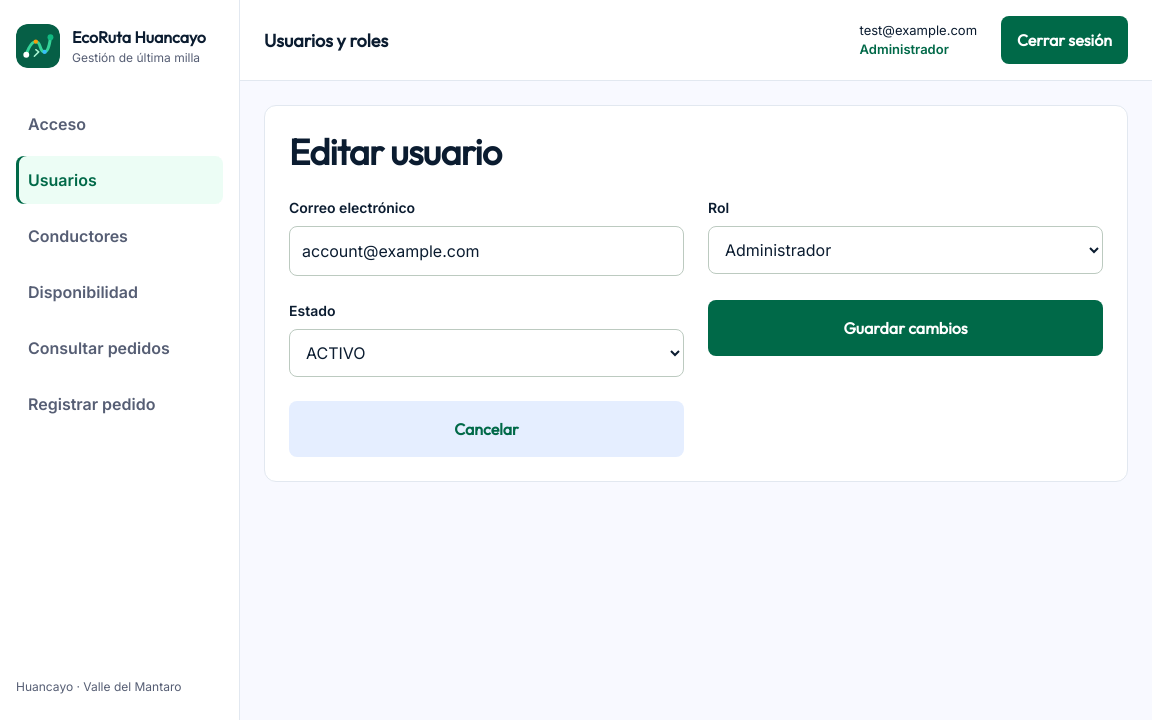
Test: US-003 interfaz › muestra fallo al guardar sin perder datos: unexpected
This screenshot has width=1152, height=720.
Expected: the field labelled "Correo electrónico" is shown, [289,226,684,276]
Click the button "Guardar cambios" at (906,328), box [708,300,1103,356]
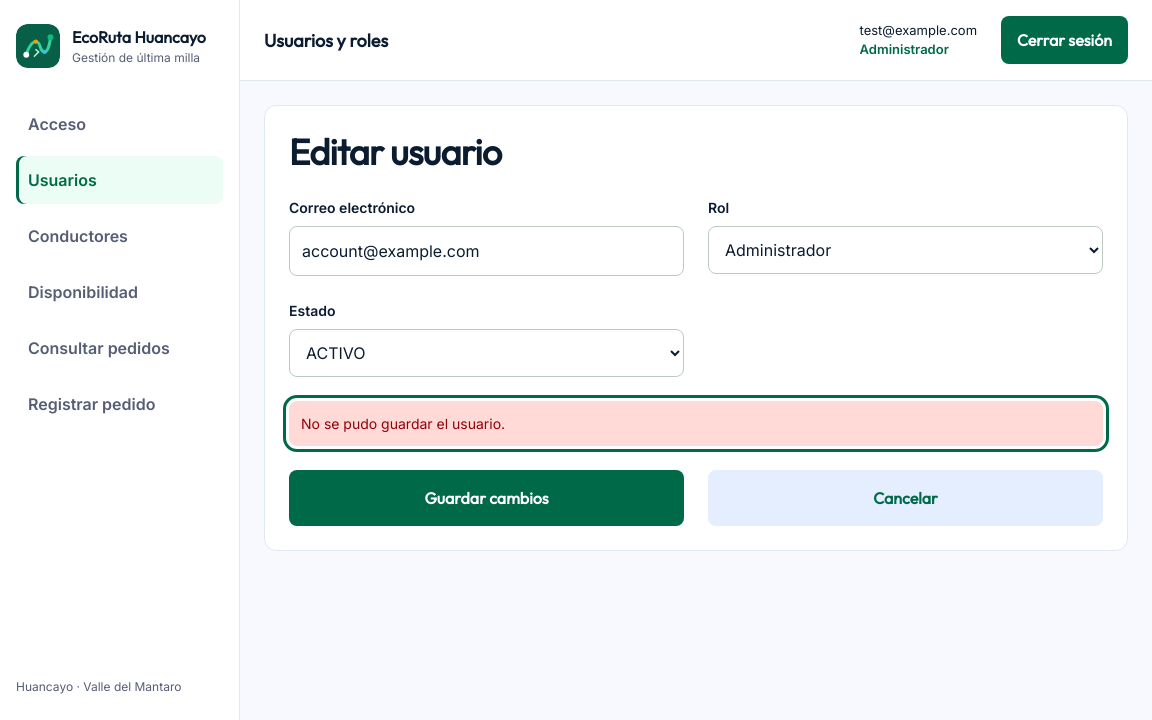
Expected: the field labelled "Correo electrónico" holds "account@example.com", [289,226,684,276]
Now the message "No se pudo guardar el usuario." is shown, box [289,401,1103,446]
